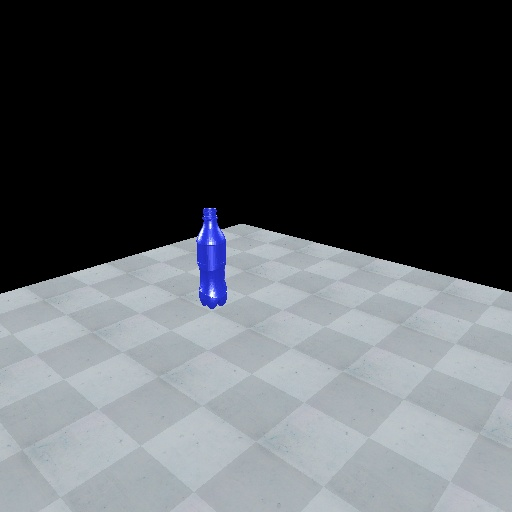bottle: (193, 205, 230, 310)
